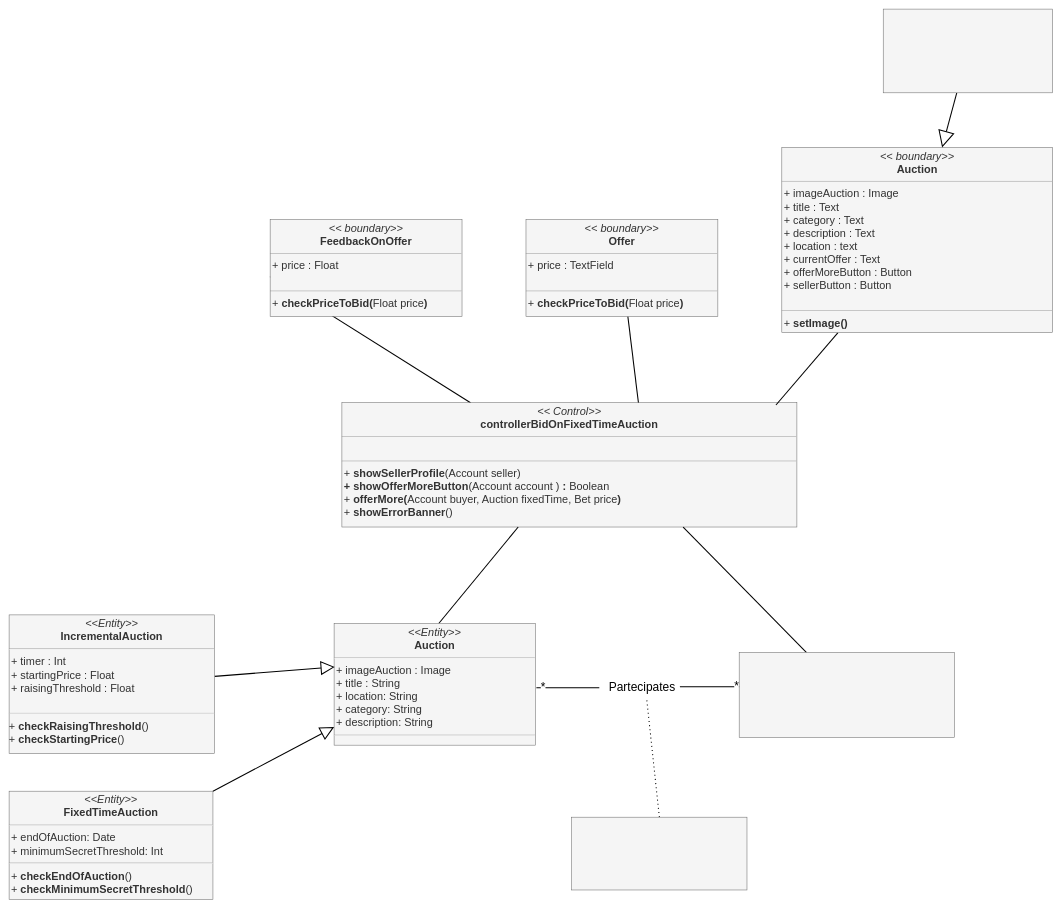
The diagram is 1062 pixels wide and 908 high, and some of its shapes have lost their labels. The box of each missing label's shape, as (x1, y1, x2, y2) in pixels:
<< boundary >> Fixed-timeAuction + endOfAuction : Text: (883, 9, 1053, 93)
<<Entity>> Bet + betPrice : Float: (571, 817, 747, 890)
<<Entity>> Buyer + getAllAuctions (): (739, 652, 954, 738)
